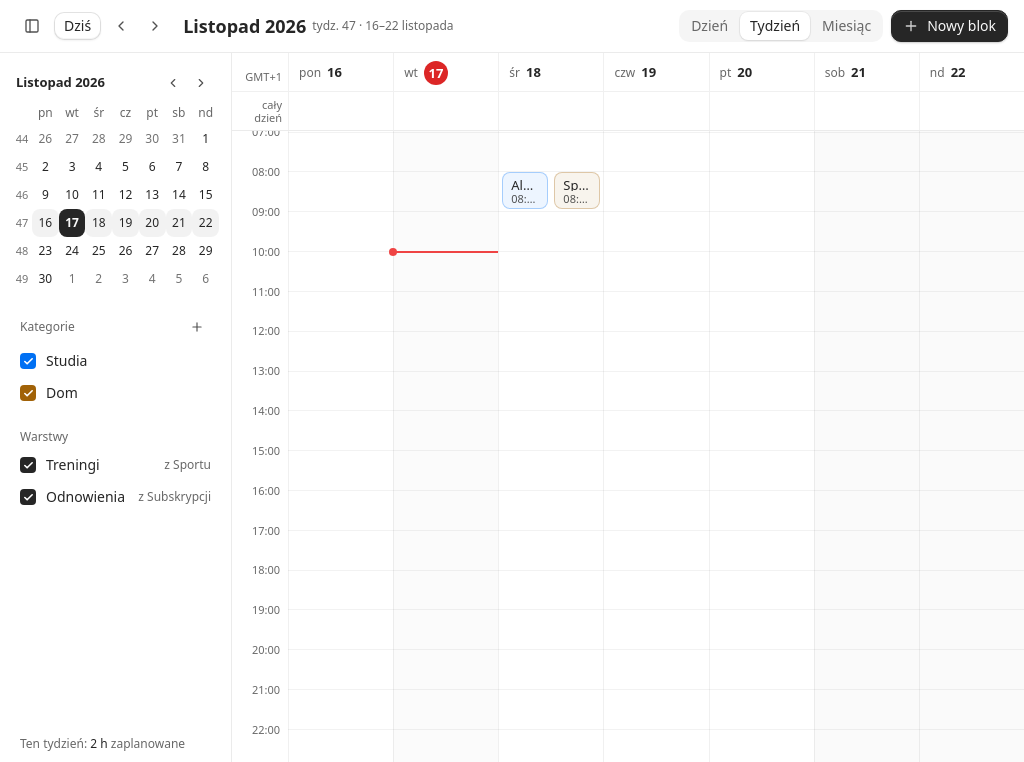
it: CalendarView › Anuluj i ✕ zamykają okno bloku bez zmiany adresu
Click the button "Nowy blok".
click(950, 26)  # box [891,10,1008,42]
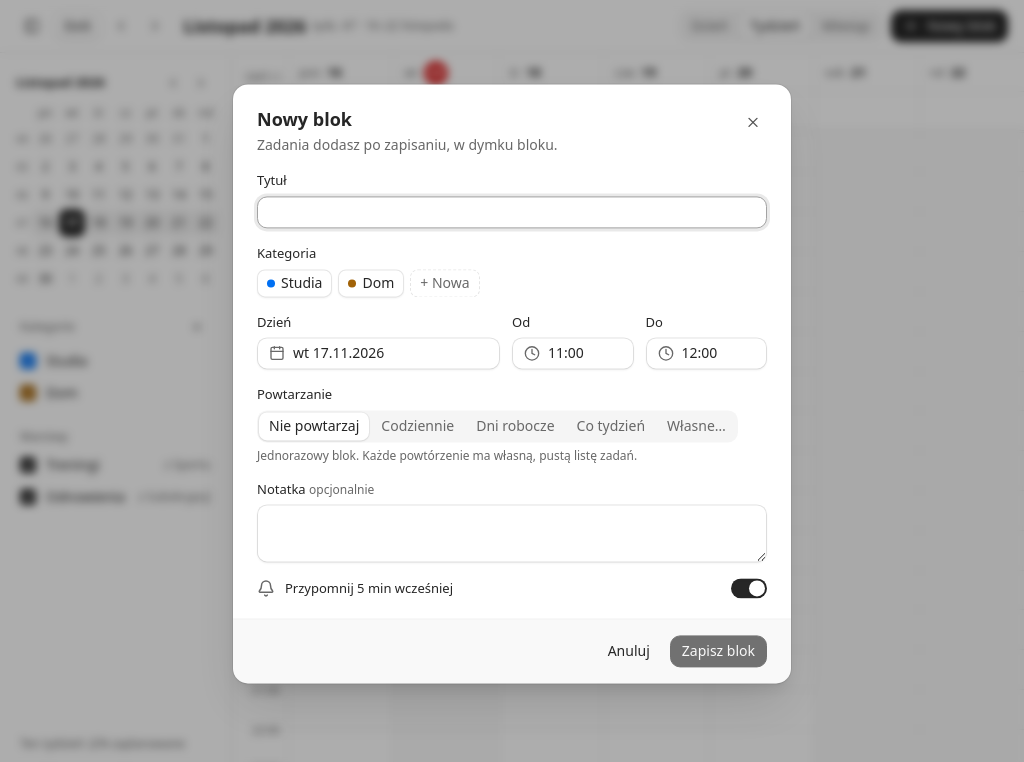
Click the button "Anuluj".
click(629, 652)  # box [596,636,662,668]
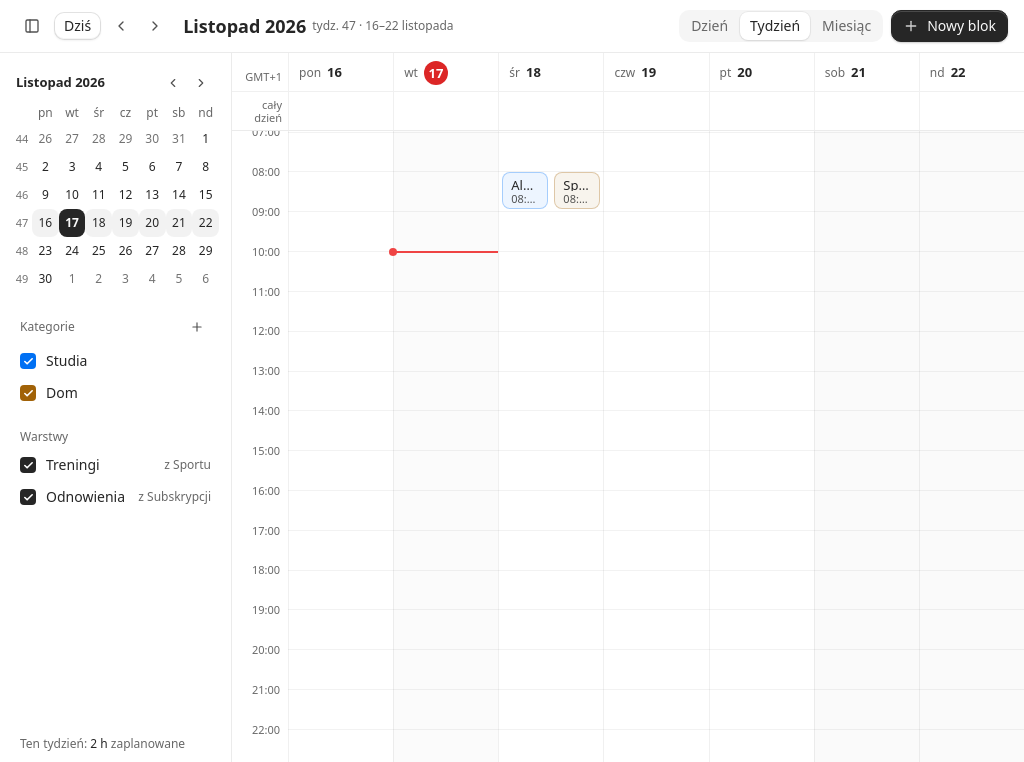
Now the dialog is gone
Click the button "Nowy blok".
click(950, 26)  # box [891,10,1008,42]
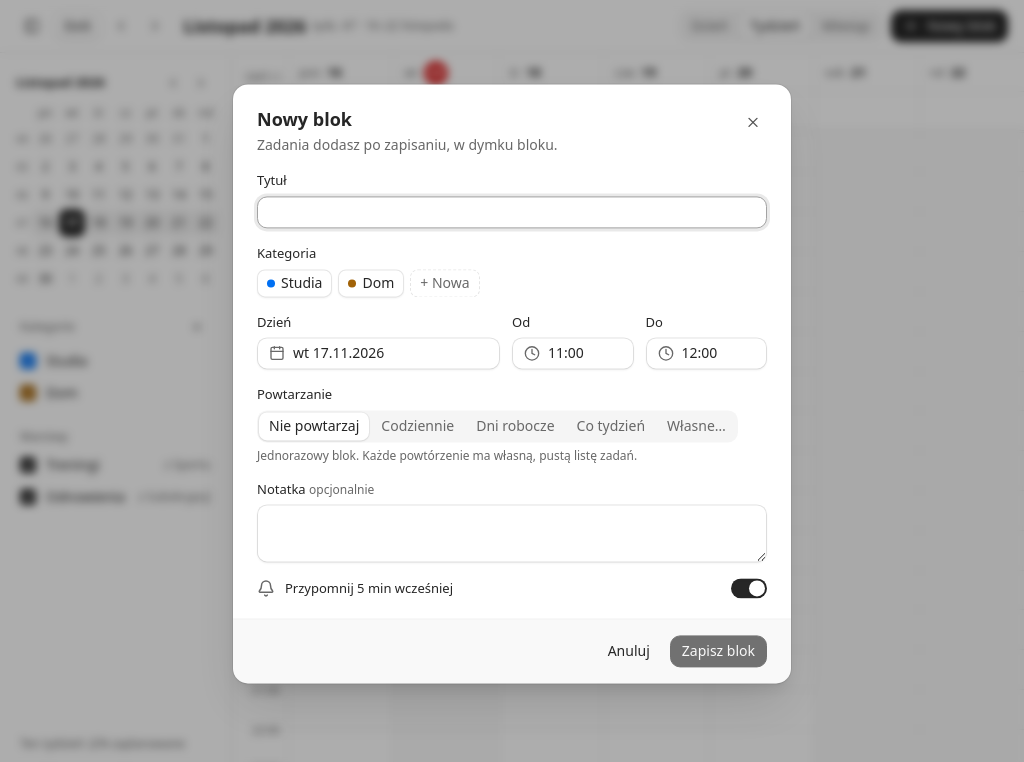
Click the button named "Zamknij".
click(753, 122)  # box [739,108,767,136]
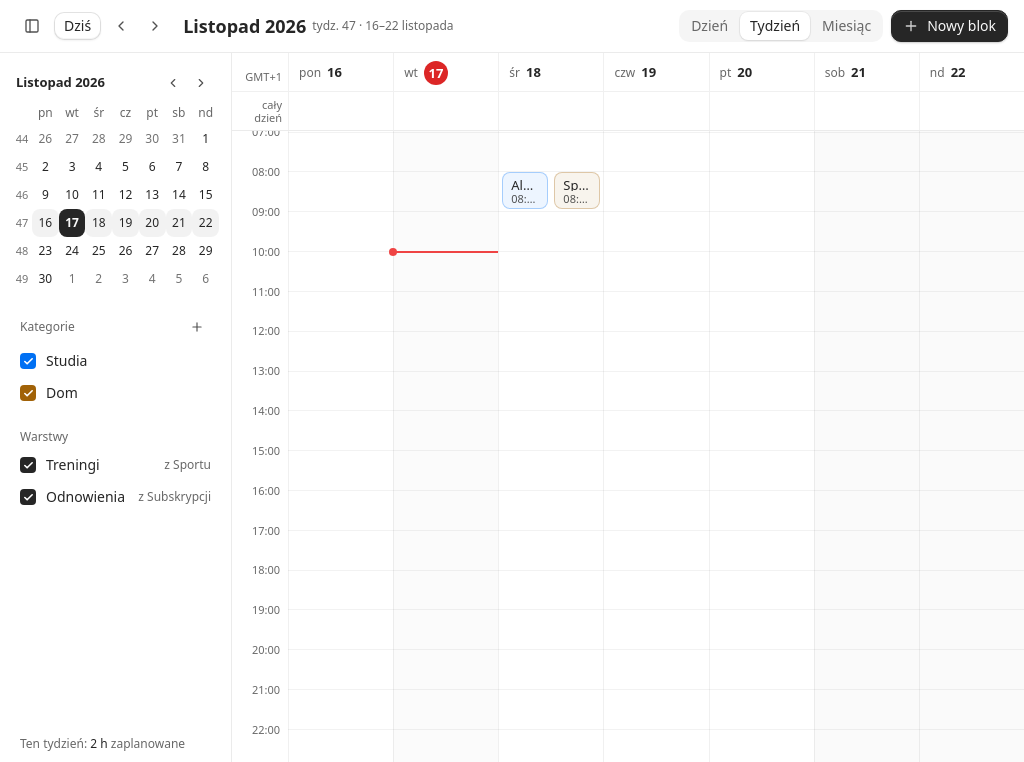
Now the dialog is gone
